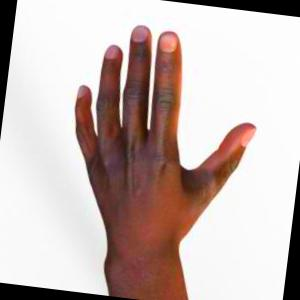paper: (76, 26, 255, 300)
